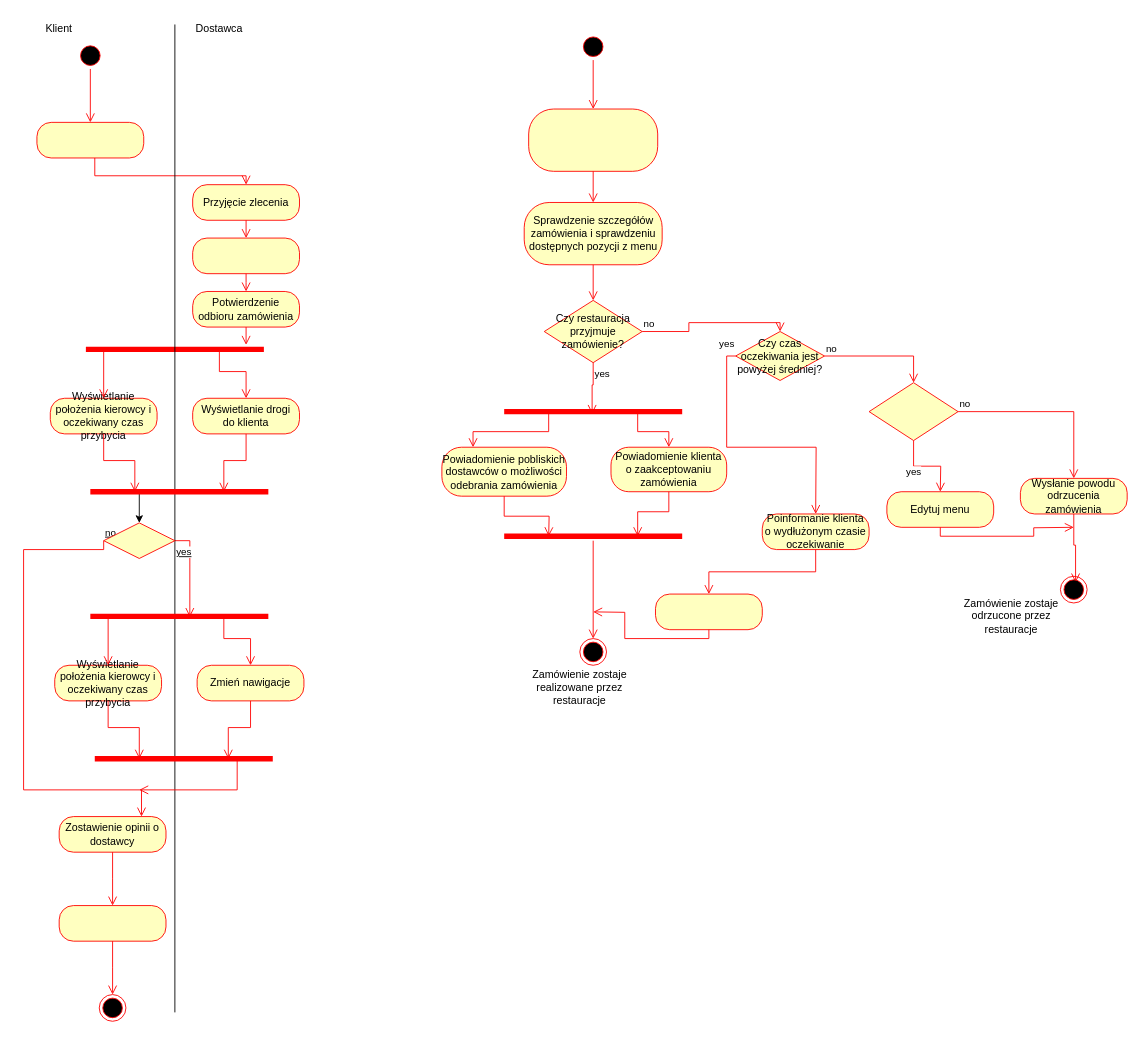
This 1143x1037 diagram has some shape labels left out. Each missing label, with the box of its shape:
Akceptacja zamówienia przez klienta: (655, 593, 762, 630)
Czy danie jest chwilowo niedostepne?: (868, 382, 958, 441)
Czy zmiana miejsca dostawy?: (103, 522, 175, 558)
Otrzymanie przez restaurację powiadomienia o zamówieniu do zrealizowania: (528, 108, 658, 171)
Wybór sposobu dostawy: (36, 121, 144, 158)
Wyświetlenie drogi do restauracji: (192, 237, 299, 274)
Zostawienie napiwku dostawcy: (58, 905, 166, 941)
